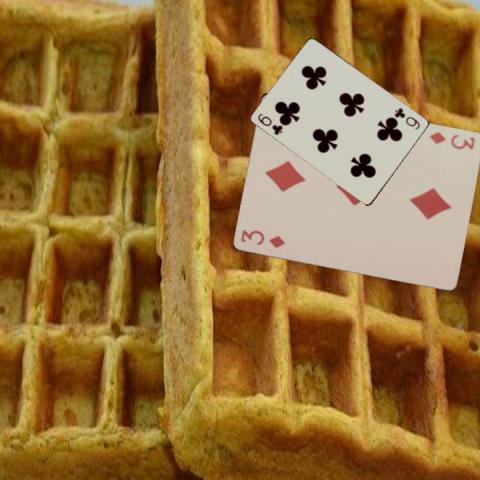3d: (238, 227, 287, 249), (426, 129, 477, 150)
6c: (254, 110, 284, 136), (392, 104, 421, 130)
